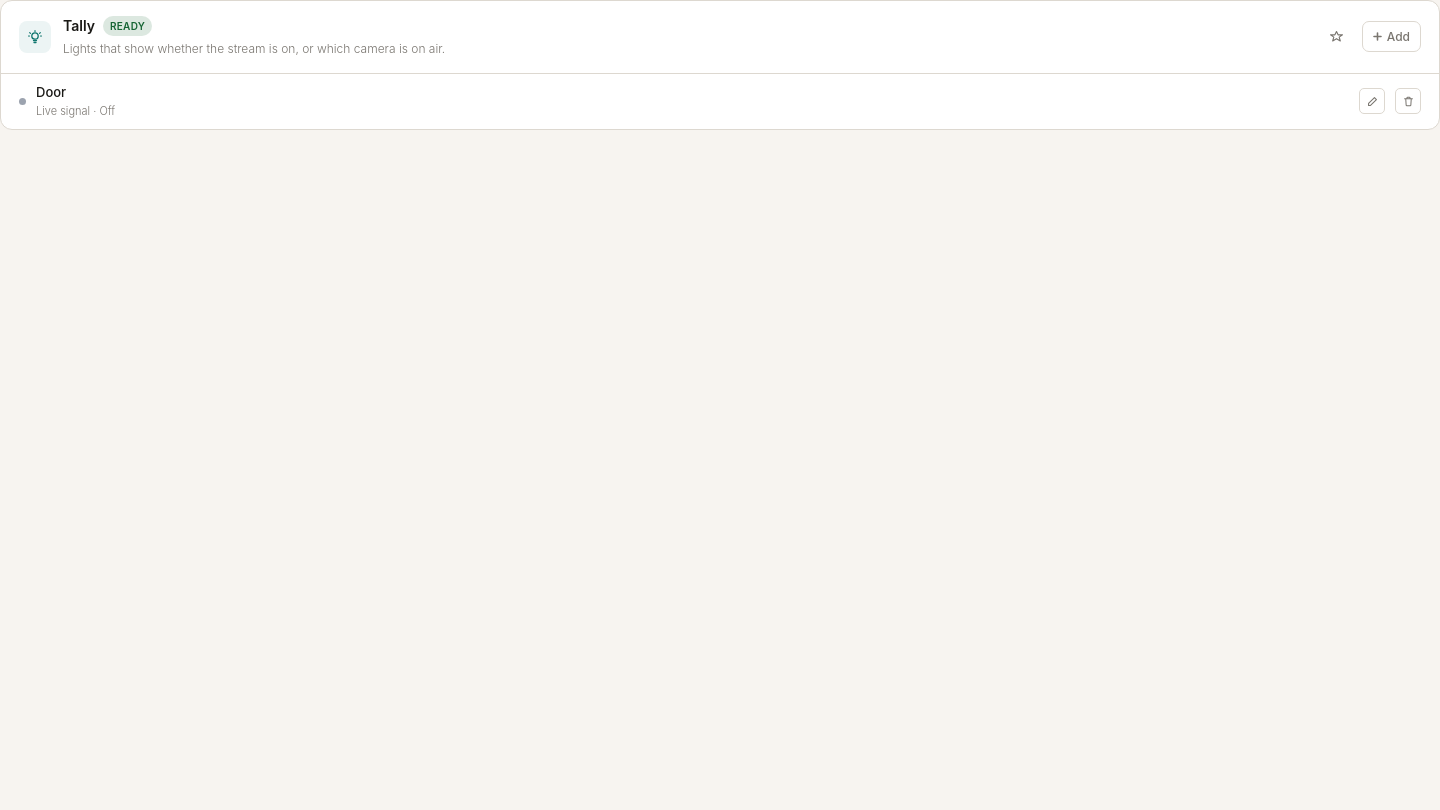
Test: TallySection › tests a lamp state from the edit dialog
Expected: the text "Door" is shown, top-left (36, 84), bottom-right (66, 100)
Click the button titled "Settings".
click(1372, 101)  # box top-left (1359, 88), bottom-right (1385, 114)
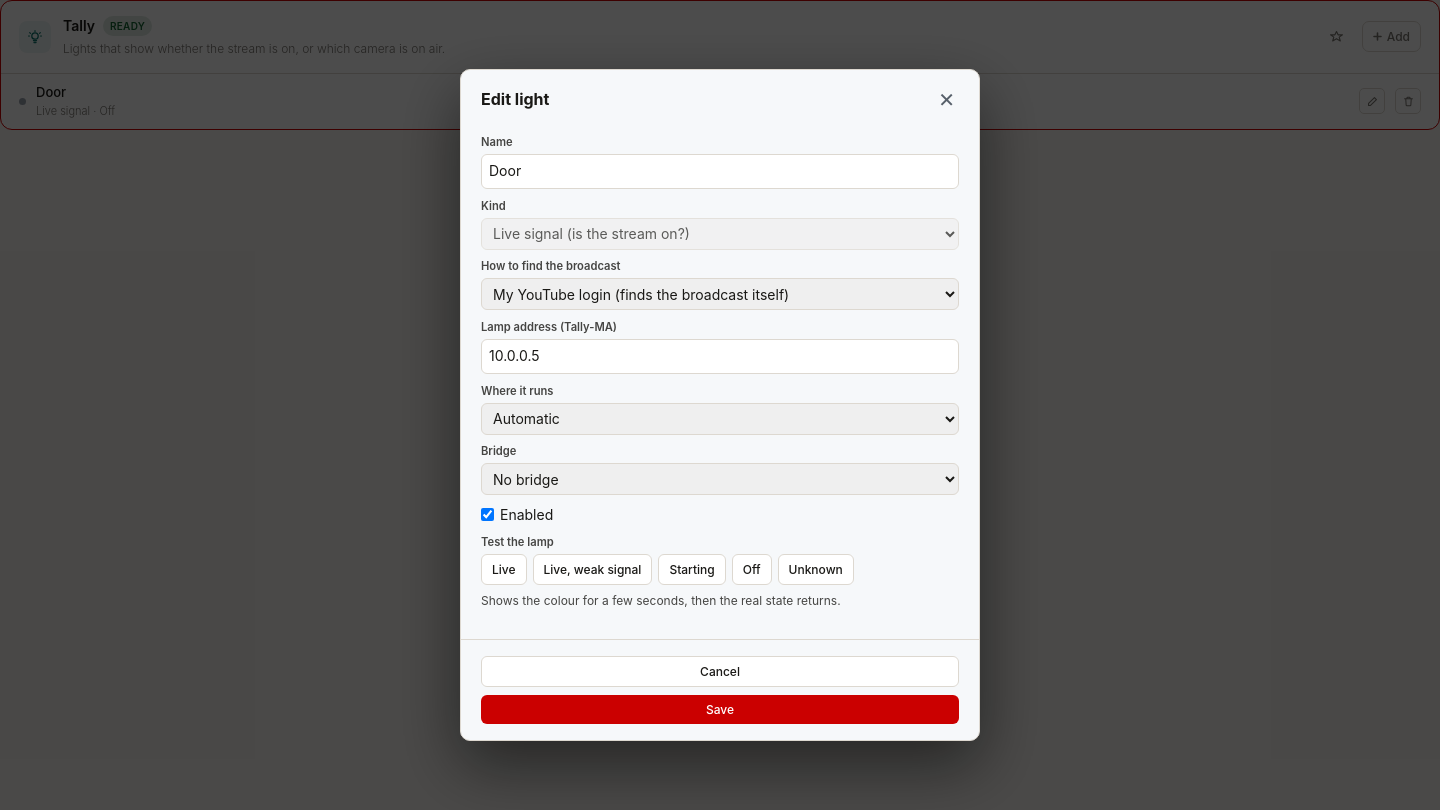
Click the button "Live".
click(504, 570)  # box top-left (481, 554), bottom-right (526, 585)
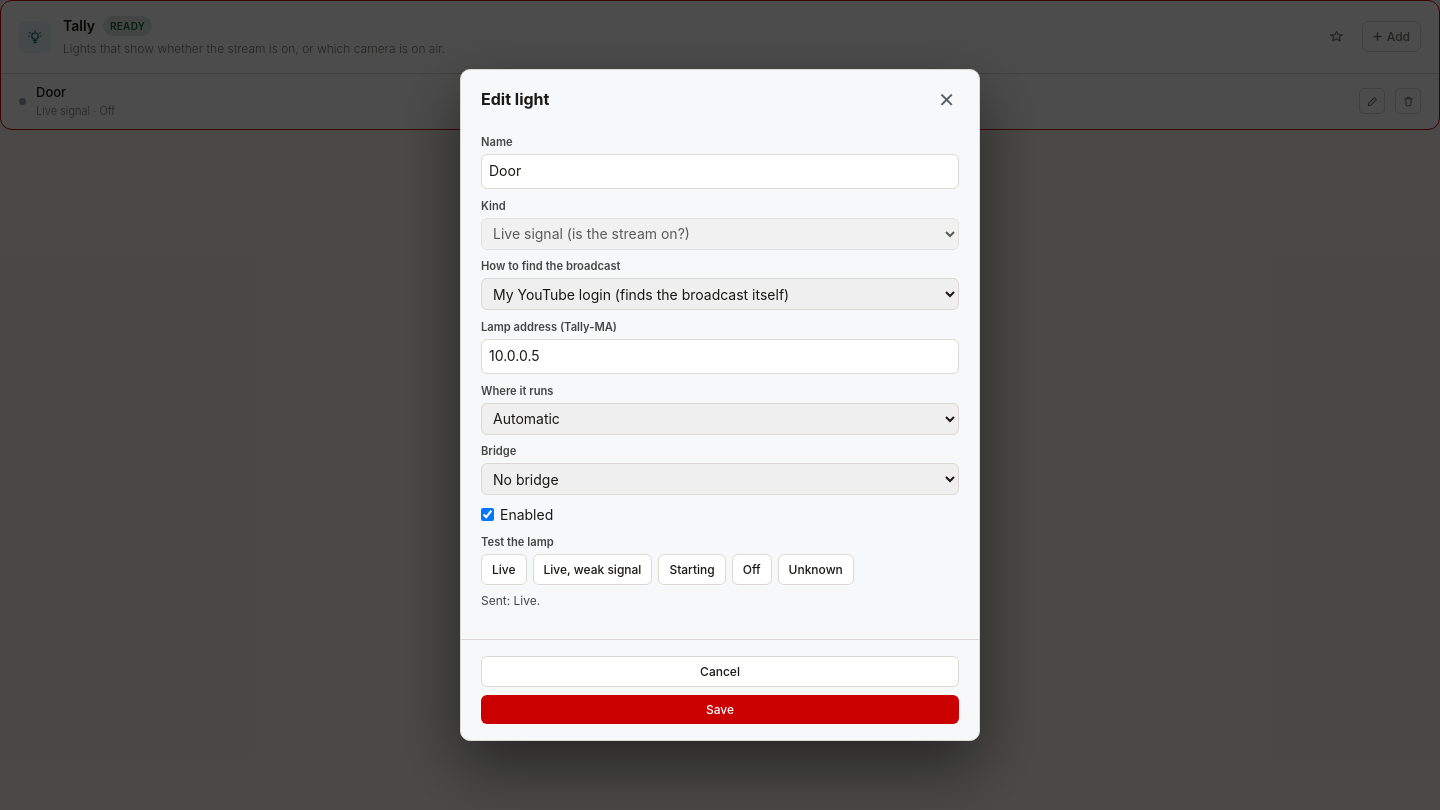
Result: the text "Sent: Live." is shown at top-left (481, 593), bottom-right (540, 608)
